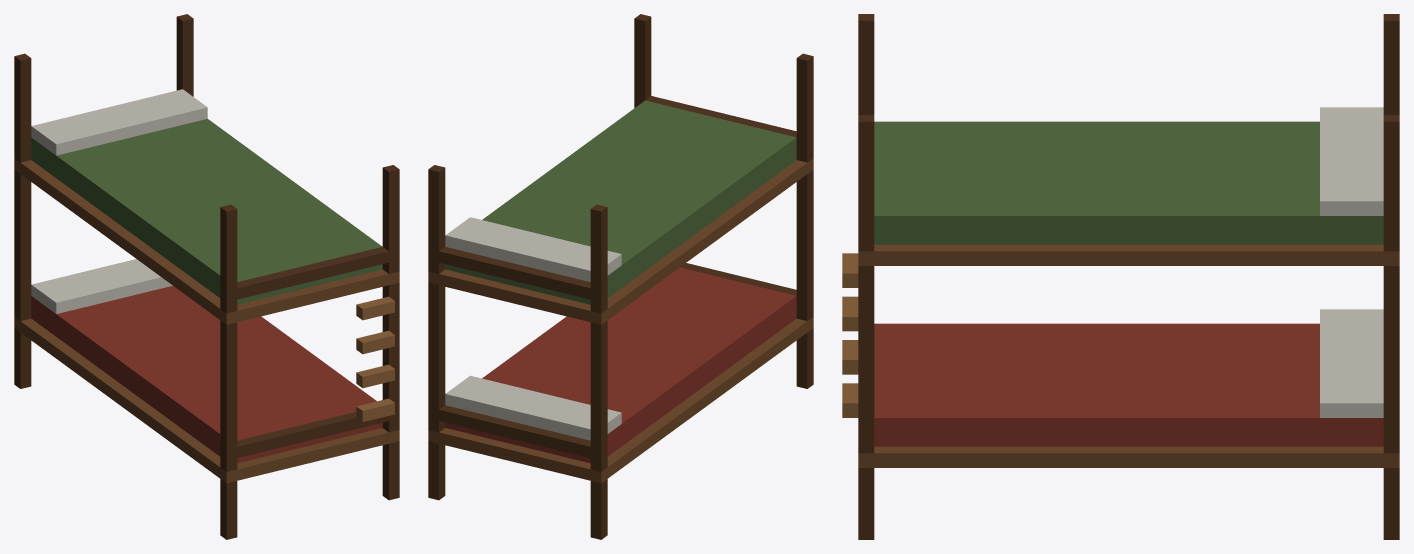
File: prop_hut_bunk_voxel.fbx
3 views of the same model, side by side, from view 1: azimuth 30°, elevation 25°; view 2: azimuth 150°, elevation 25°; view 3: azimuth 270°, elevation 25° (orthographic). The views are drawn at different scales.
Parts seen in each view (by area): view 1: prop_hut_bunk_voxel; view 2: prop_hut_bunk_voxel; view 3: prop_hut_bunk_voxel.
Part boxes in pixels (box(x1,y1,x2,y2)): prop_hut_bunk_voxel: box(14, 14, 399, 539); prop_hut_bunk_voxel: box(428, 14, 813, 539); prop_hut_bunk_voxel: box(842, 14, 1399, 539).
Bounding box in the file's own units: 1 × 1.81 × 2.19.
